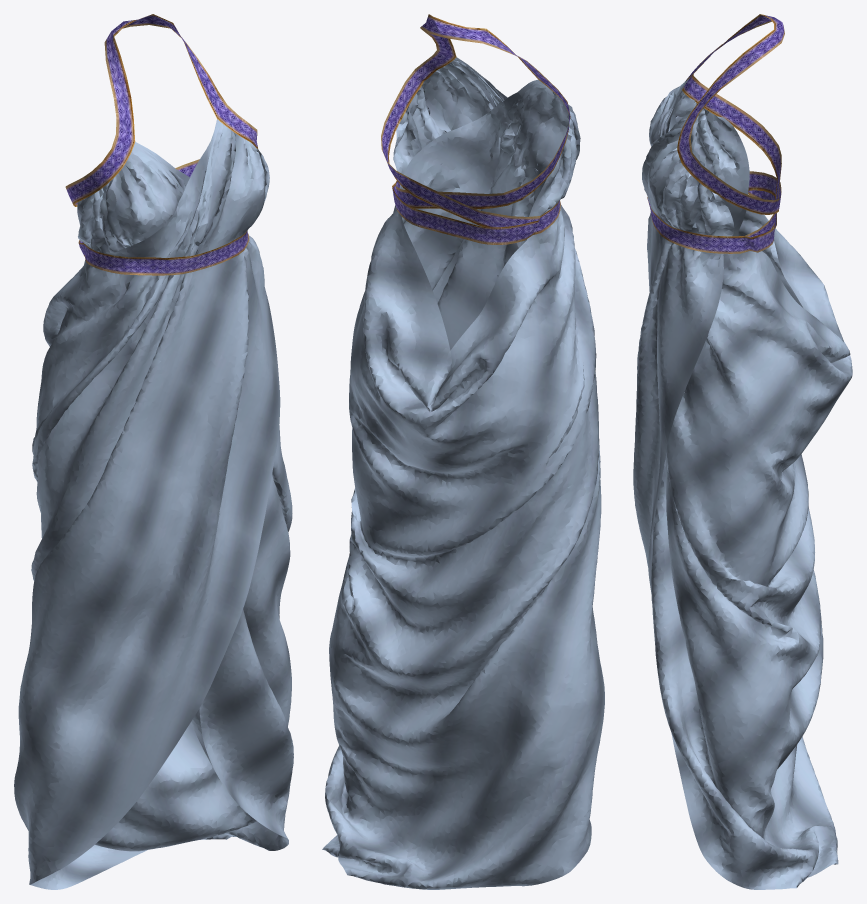
File: elvs-goddess-dress3.glb
3 renders of one model, left to right at view 1: azimuth 30°, elevation 25°; view 2: azimuth 150°, elevation 25°; view 3: azimuth 270°, elevation 25°, orthographic. The views are drawn at different scales.
Parts seen in each view (by area): view 1: goddess dress3; view 2: goddess dress3; view 3: goddess dress3.
Boxes of the visible parts, x1,y1,x2,y2 form: goddess dress3: (14, 14, 293, 889); goddess dress3: (322, 14, 604, 889); goddess dress3: (633, 14, 852, 889).
Size of the model in its own units: 44.53 by 139 by 34.01.
Materials: 1 (1 with a texture image).
